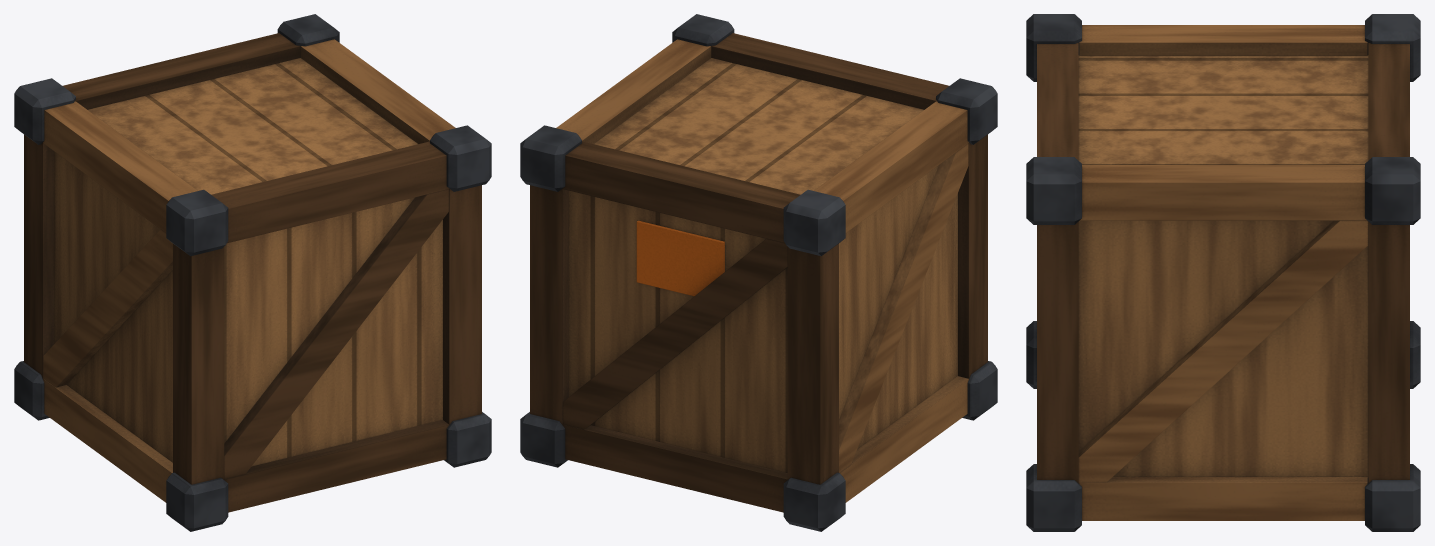
The model's file is caja_madera.fbx.
3 renders of one model, left to right at view 1: azimuth 30°, elevation 25°; view 2: azimuth 150°, elevation 25°; view 3: azimuth 270°, elevation 25°, orthographic. The views are drawn at different scales.
Parts seen in each view (by area): view 1: caja_madera; view 2: caja_madera; view 3: caja_madera.
Part boxes in pixels (left/top/right/bottom): caja_madera: left=14, top=14, right=491, bottom=531; caja_madera: left=520, top=14, right=997, bottom=531; caja_madera: left=1026, top=14, right=1420, bottom=531.
Size of the model in its own units: 4.24 by 4.24 by 4.24.
1 material, 1 textured.
